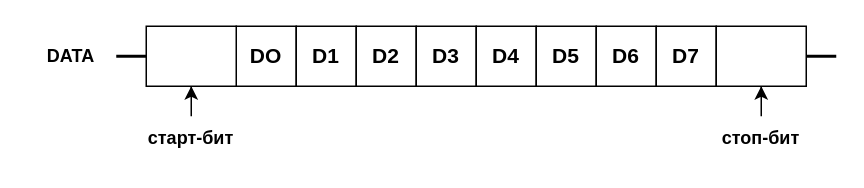
Some shapes in this 864 by 188 pixel diagram are drawn without their labels. The box of each missing label's shape, as (x1, y1, x2, y2) in pixels:
START: (145, 25, 236, 86)
STOP: (715, 25, 806, 86)
